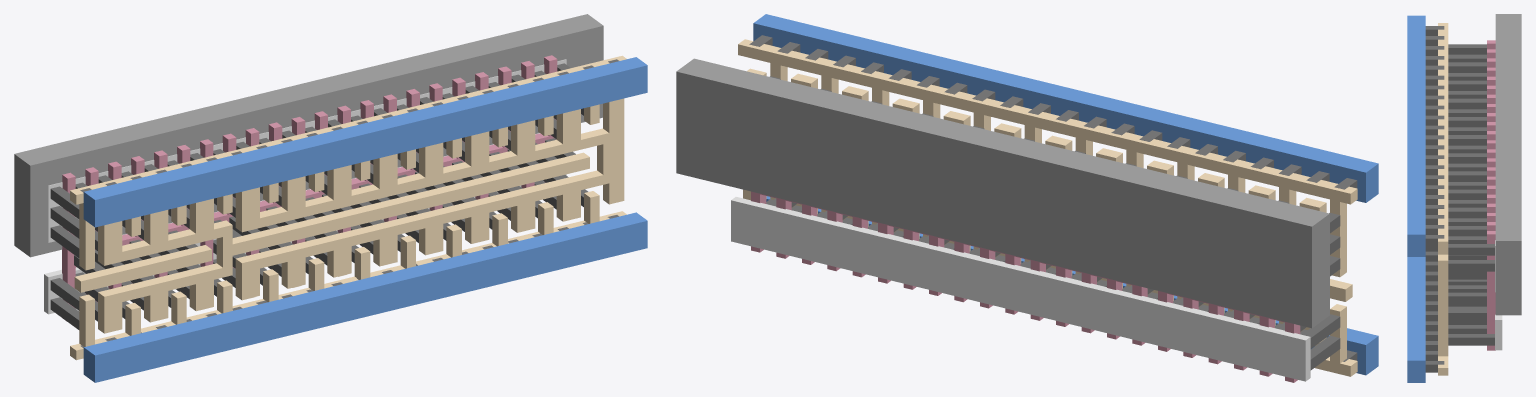
File: sky130_fd_sc_hd__buf_16.gds.gltf
The picture shows the model from 3 angles, left to right: view 1: azimuth 30°, elevation 25°; view 2: azimuth 150°, elevation 25°; view 3: azimuth 270°, elevation 25°; orthographic projection. The views are drawn at different scales.
Parts seen in each view (by area): view 1: sky130_fd_sc_hd__buf_16_li1, sky130_fd_sc_hd__buf_16_met1, sky130_fd_sc_hd__buf_16_nwell, sky130_fd_sc_hd__buf_16_licon, sky130_fd_sc_hd__buf_16_poly, sky130_fd_sc_hd__buf_16_diff, sky130_fd_sc_hd__buf_16_mcon; view 2: sky130_fd_sc_hd__buf_16_nwell, sky130_fd_sc_hd__buf_16_diff, sky130_fd_sc_hd__buf_16_li1, sky130_fd_sc_hd__buf_16_met1, sky130_fd_sc_hd__buf_16_poly, sky130_fd_sc_hd__buf_16_mcon, sky130_fd_sc_hd__buf_16_licon; view 3: sky130_fd_sc_hd__buf_16_licon, sky130_fd_sc_hd__buf_16_nwell, sky130_fd_sc_hd__buf_16_met1, sky130_fd_sc_hd__buf_16_mcon, sky130_fd_sc_hd__buf_16_li1, sky130_fd_sc_hd__buf_16_poly, sky130_fd_sc_hd__buf_16_diff.
Boxes of the visible parts, box(x1,y1,x2,y2) form: sky130_fd_sc_hd__buf_16_li1: box(70, 55, 626, 360); sky130_fd_sc_hd__buf_16_met1: box(83, 57, 647, 382); sky130_fd_sc_hd__buf_16_nwell: box(14, 14, 603, 257); sky130_fd_sc_hd__buf_16_licon: box(50, 63, 588, 329); sky130_fd_sc_hd__buf_16_poly: box(62, 55, 557, 321); sky130_fd_sc_hd__buf_16_diff: box(44, 59, 566, 314); sky130_fd_sc_hd__buf_16_mcon: box(80, 59, 618, 347); sky130_fd_sc_hd__buf_16_nwell: box(676, 58, 1329, 328); sky130_fd_sc_hd__buf_16_diff: box(731, 197, 1310, 381); sky130_fd_sc_hd__buf_16_li1: box(738, 39, 1357, 376); sky130_fd_sc_hd__buf_16_met1: box(753, 14, 1378, 375); sky130_fd_sc_hd__buf_16_poly: box(751, 191, 1300, 382); sky130_fd_sc_hd__buf_16_mcon: box(749, 35, 1357, 361); sky130_fd_sc_hd__buf_16_licon: box(766, 76, 1340, 370); sky130_fd_sc_hd__buf_16_licon: box(1448, 44, 1494, 345); sky130_fd_sc_hd__buf_16_nwell: box(1495, 14, 1521, 315); sky130_fd_sc_hd__buf_16_met1: box(1407, 15, 1425, 382); sky130_fd_sc_hd__buf_16_mcon: box(1425, 26, 1444, 372); sky130_fd_sc_hd__buf_16_li1: box(1438, 23, 1448, 375); sky130_fd_sc_hd__buf_16_poly: box(1487, 40, 1495, 350); sky130_fd_sc_hd__buf_16_diff: box(1495, 240, 1502, 350).
Size of the model in its own units: 10.5 by 3.2 by 2.24.
